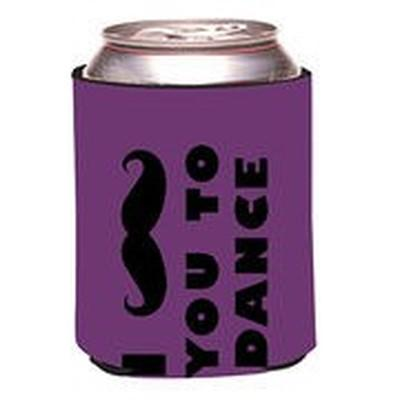beer: (72, 20, 316, 373)
